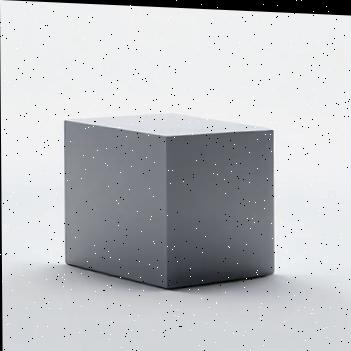cube: (64, 105, 277, 291)
